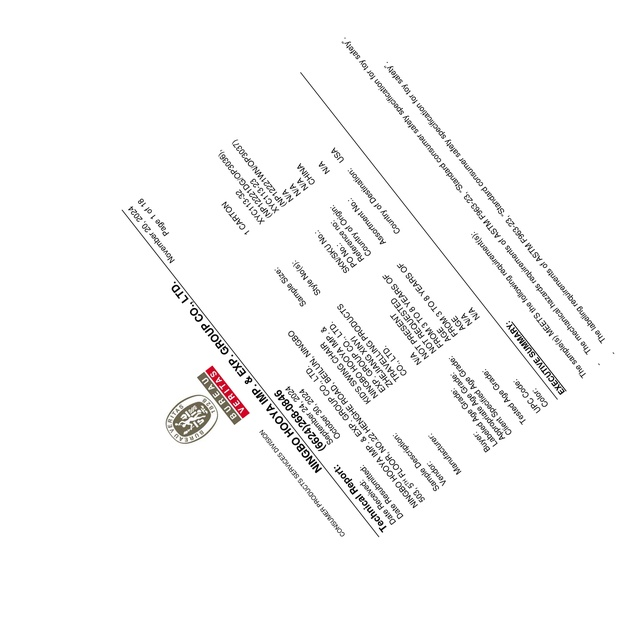bureau_veritas: (163, 365, 250, 447)
